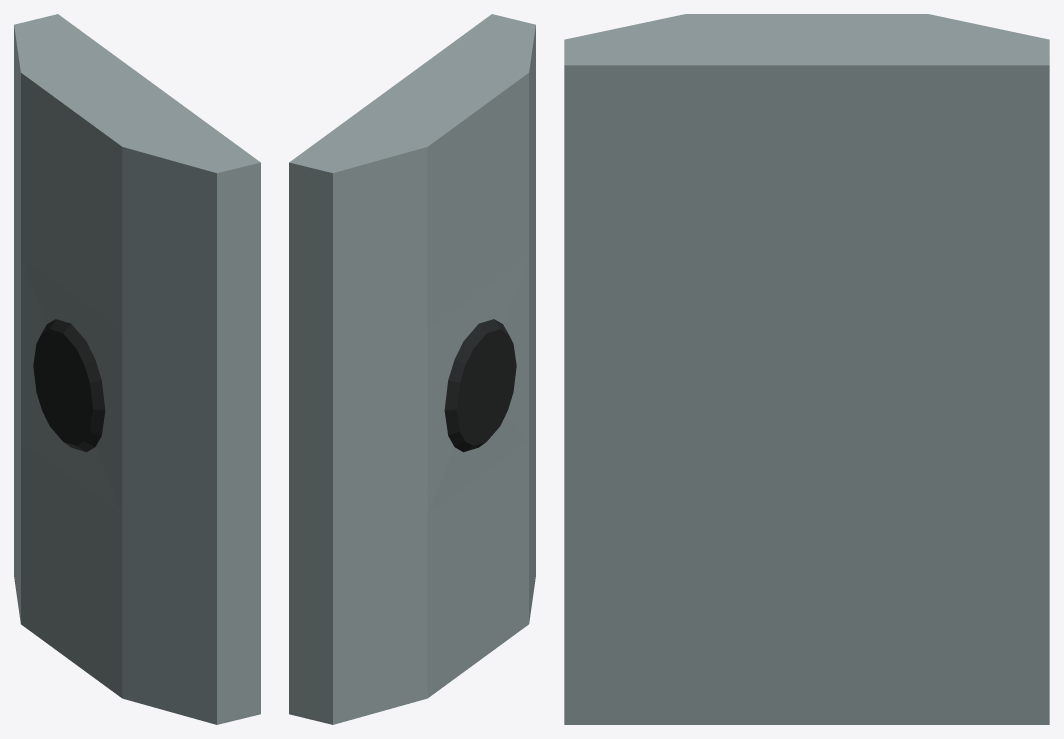
The model's file is sensor.fbx.
3 renders of one model, left to right at view 1: azimuth 30°, elevation 25°; view 2: azimuth 150°, elevation 25°; view 3: azimuth 270°, elevation 25°, orthographic. The views are drawn at different scales.
Visible parts, largest first — view 1: Sensor; view 2: Sensor; view 3: Sensor.
Boxes of the visible parts, x1,y1,x2,y2 form: Sensor: [14, 14, 260, 724]; Sensor: [289, 14, 535, 724]; Sensor: [564, 14, 1049, 724].
Bounding box in the file's own units: 10.96 × 60 × 40.
